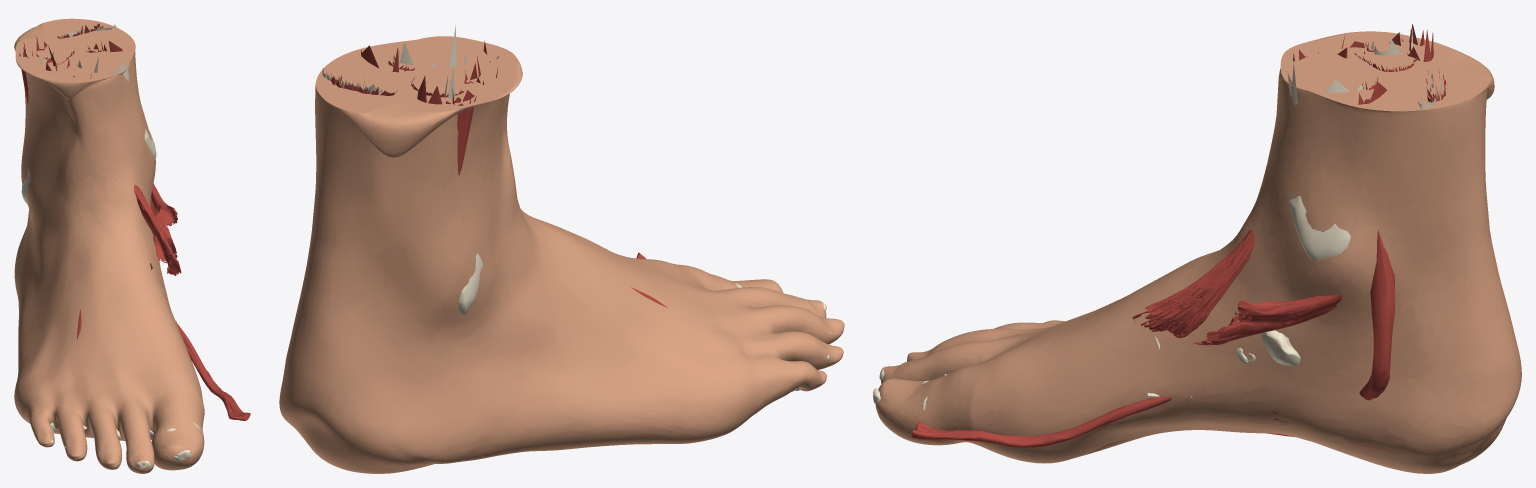
The model's file is foot-r.glb.
The picture shows the model from 3 angles, left to right: view 1: azimuth 30°, elevation 25°; view 2: azimuth 150°, elevation 25°; view 3: azimuth 270°, elevation 25°; orthographic projection. The views are drawn at different scales.
Parts seen in each view (by area): view 1: skin, muscle, bone; view 2: skin, muscle, bone; view 3: skin, muscle, bone.
Part boxes in pixels (x1,y1,x2,y2): skin: (14, 18, 204, 473); muscle: (19, 24, 250, 420); bone: (21, 53, 200, 469); skin: (279, 36, 844, 473); muscle: (331, 40, 794, 391); bone: (393, 25, 830, 390); skin: (875, 31, 1521, 473); muscle: (911, 24, 1446, 447); bone: (873, 28, 1442, 472).
Bounding box in the file's own units: 0.1309 × 0.1714 × 0.2241.
